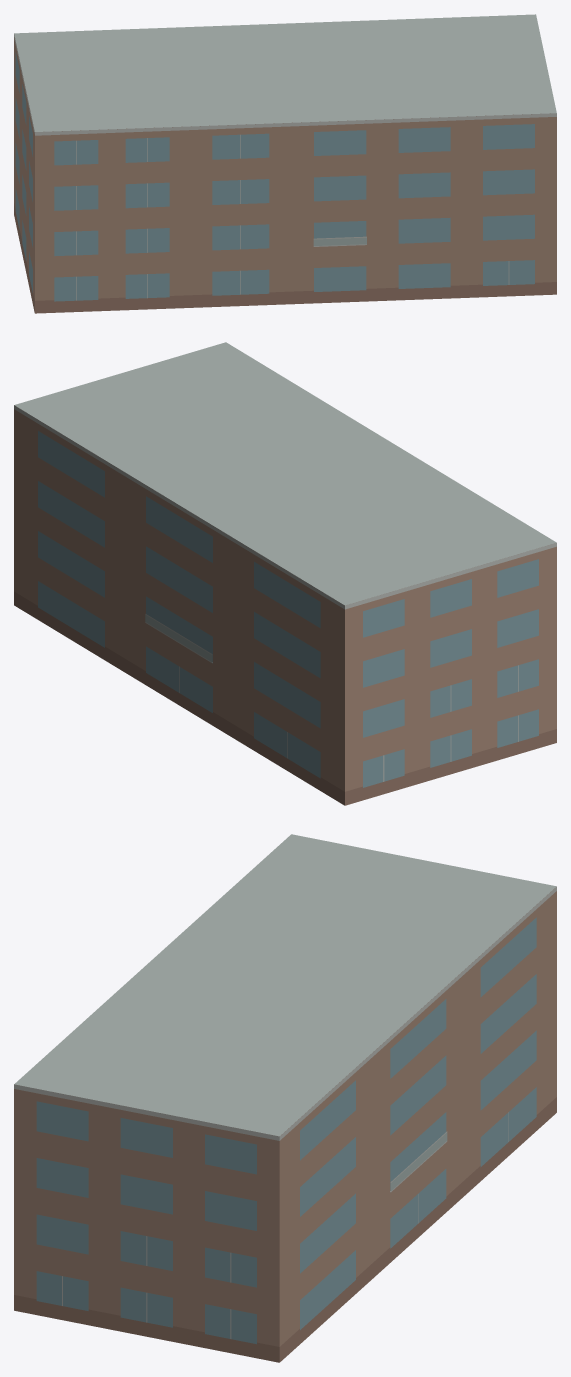
The model's file is survey-upis-33028186.glb.
3 renders of one model, top to bottom at view 1: azimuth 30°, elevation 25°; view 2: azimuth 150°, elevation 25°; view 3: azimuth 270°, elevation 25°, orthographic. The views are drawn at different scales.
Parts seen in each view (by area): view 1: survey-upis-33028186.tmp; view 2: survey-upis-33028186.tmp; view 3: survey-upis-33028186.tmp.
Boxes of the visible parts, x1,y1,x2,y2 form: survey-upis-33028186.tmp: (14,14,556,313); survey-upis-33028186.tmp: (14,342,556,805); survey-upis-33028186.tmp: (14,834,556,1362).
Size of the model in its own units: 34.95 by 12.2 by 26.53.
